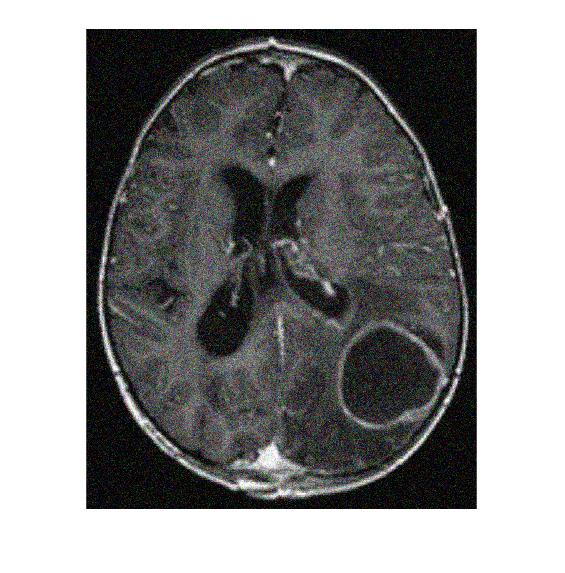Brain_Cancer: (339, 321, 445, 422)
